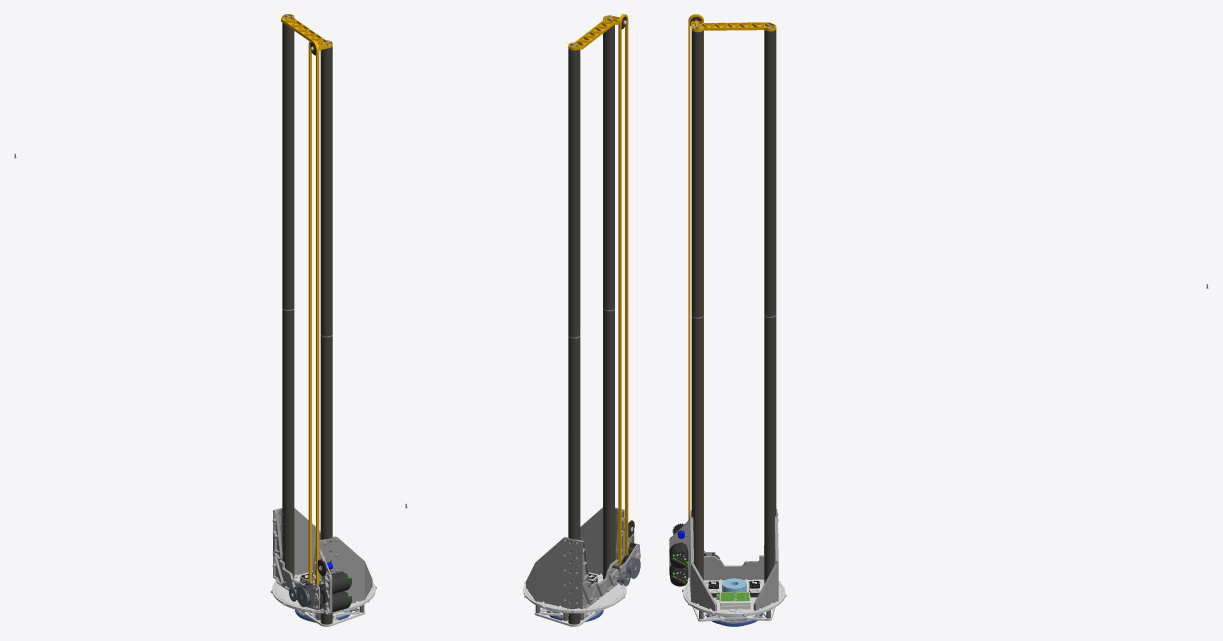
3 renders of one model, left to right at view 1: azimuth 30°, elevation 25°; view 2: azimuth 150°, elevation 25°; view 3: azimuth 270°, elevation 25°, orthographic.
Parts seen in each view (by area): view 1: Upper Upright (×2), Lower Upright (×2), Chain - 561 Links, SideSupport A, Rear Support, Side Support B, Top Tie; view 2: Upper Upright (×2), Lower Upright (×2), Chain - 561 Links, Side Support B, Rear Support, SideSupport A, Top Tie, THE PLATE THAT IS THE TURRET BUT IT IS LARP, upper outer clamp, butterfly/ 2op plate; view 3: Upper Upright (×2), Lower Upright (×2), Chain - 561 Links, Rear Support, Top Tie.
Boxes of the visible parts, x1=… form: Upper Upright (×2): x1=282, y1=23, x2=332, y2=336; Lower Upright (×2): x1=282, y1=309, x2=332, y2=624; Chain - 561 Links: x1=308, y1=40, x2=319, y2=584; SideSupport A: x1=319, y1=536, x2=364, y2=603; Rear Support: x1=273, y1=509, x2=332, y2=615; Side Support B: x1=273, y1=508, x2=315, y2=575; Top Tie: x1=281, y1=14, x2=332, y2=50; Upper Upright (×2): x1=568, y1=25, x2=614, y2=337; Lower Upright (×2): x1=568, y1=309, x2=614, y2=624; Chain - 561 Links: x1=618, y1=14, x2=628, y2=572; Side Support B: x1=535, y1=537, x2=583, y2=609; Rear Support: x1=580, y1=509, x2=634, y2=608; SideSupport A: x1=580, y1=507, x2=624, y2=575; Top Tie: x1=568, y1=15, x2=619, y2=50; THE PLATE THAT IS THE TURRET BUT IT IS LARP: x1=526, y1=572, x2=623, y2=609; upper outer clamp: x1=523, y1=581, x2=626, y2=612; butterfly/ 2op plate: x1=534, y1=608, x2=600, y2=626; Upper Upright (×2): x1=691, y1=29, x2=776, y2=317; Lower Upright (×2): x1=691, y1=315, x2=776, y2=583; Chain - 561 Links: x1=688, y1=14, x2=703, y2=555; Rear Support: x1=669, y1=509, x2=777, y2=580; Top Tie: x1=691, y1=21, x2=776, y2=32.
Size of the model in its own units: 0.4217 by 2.07 by 1.72.
